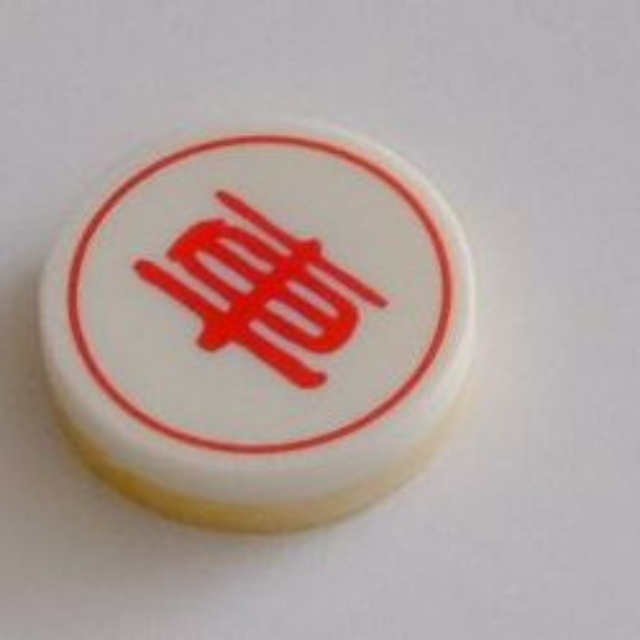red_xe: (29, 107, 487, 534)
